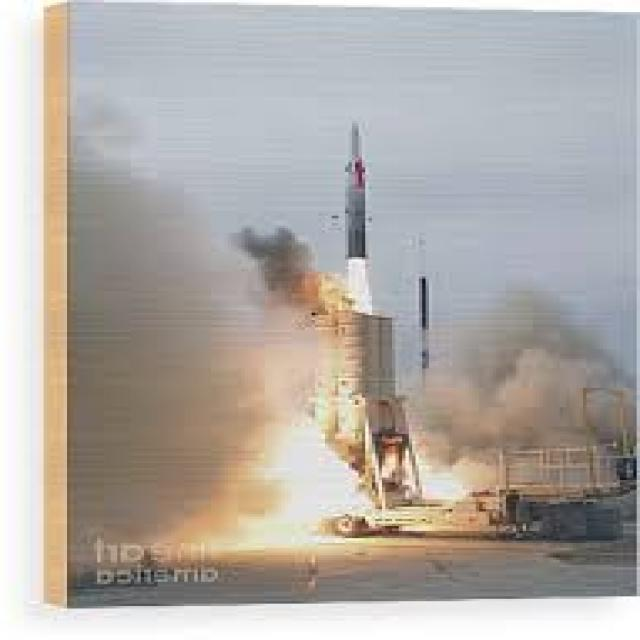missile: (336, 108, 378, 264)
